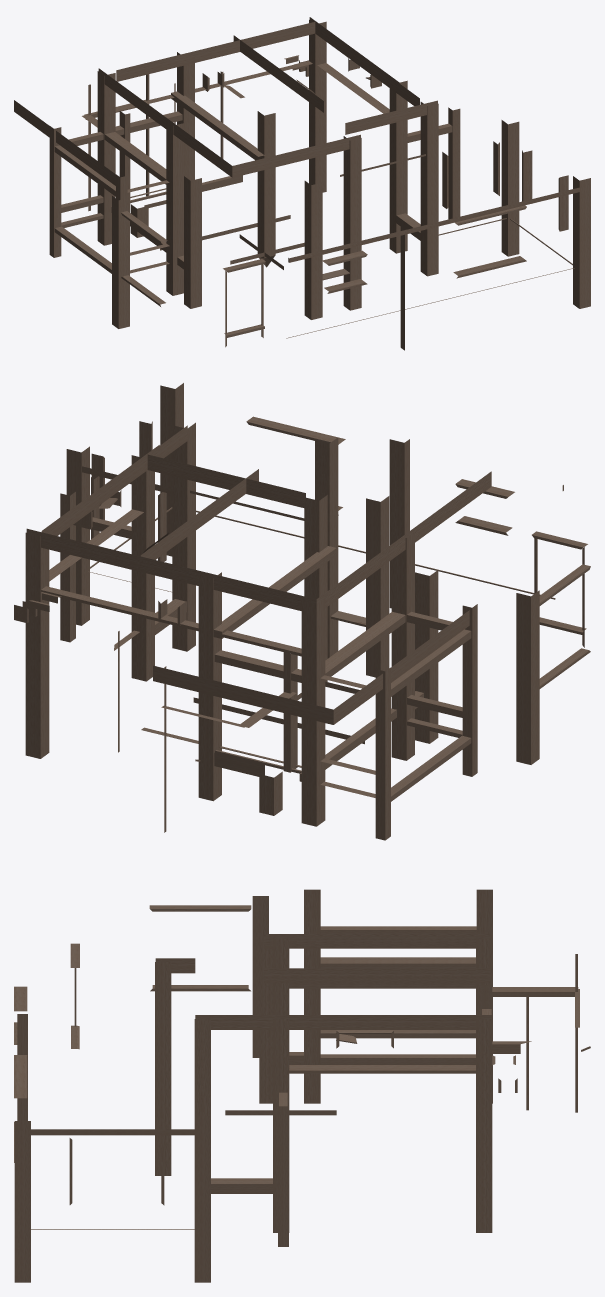
The model's file is kd_stage_135ded_4_34_bounded.glb.
3 views of the same model, one above another, from view 1: azimuth 30°, elevation 25°; view 2: azimuth 150°, elevation 25°; view 3: azimuth 270°, elevation 25° (orthographic). The views are drawn at different scales.
Parts seen in each view (by area): view 1: kd_stage_135ded_4_34_bounded; view 2: kd_stage_135ded_4_34_bounded; view 3: kd_stage_135ded_4_34_bounded.
Boxes of the visible parts, left/top/right/bottom form: kd_stage_135ded_4_34_bounded: left=14, top=17, right=590, bottom=350; kd_stage_135ded_4_34_bounded: left=14, top=383, right=590, bottom=840; kd_stage_135ded_4_34_bounded: left=14, top=889, right=590, bottom=1282.
Size of the model in its own units: 9.98 by 4.39 by 10.51.
1 material, 1 textured.
